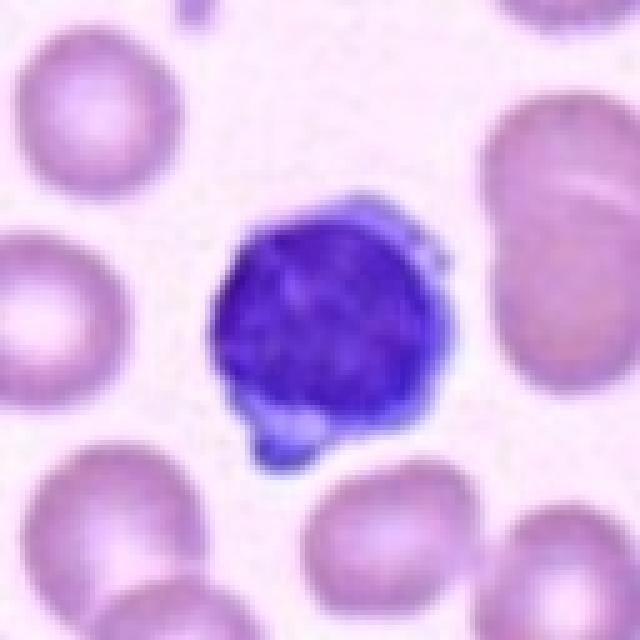lympho: (198, 176, 475, 479)
